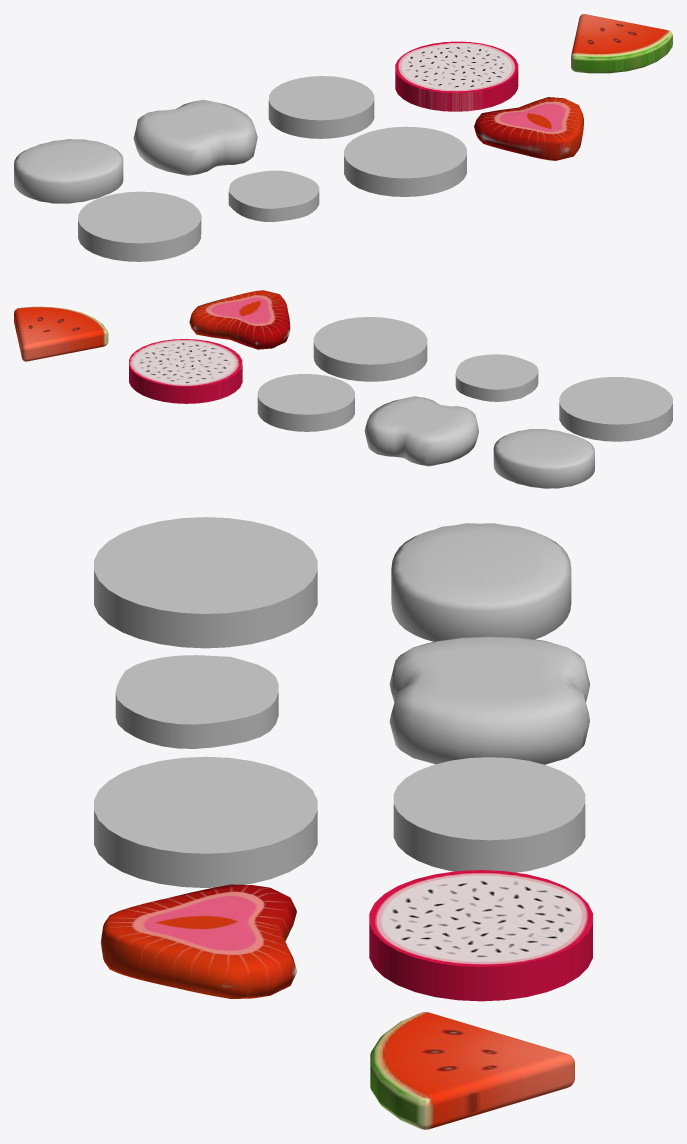
The model's file is fruits.fbx.
The picture shows the model from 3 angles, top to bottom: view 1: azimuth 30°, elevation 25°; view 2: azimuth 150°, elevation 25°; view 3: azimuth 270°, elevation 25°; orthographic projection. The views are drawn at different scales.
Parts seen in each view (by area): view 1: pCylinder6, pCylinder4, pCylinder1, pCube1, pCylinder2, pCylinder3, pCube2, pCylinder7, pCylinder5; view 2: pCylinder1, pCylinder4, pCylinder6, pCube1, pCylinder2, pCylinder3, pCube2, pCylinder7, pCylinder5; view 3: pCylinder4, pCylinder6, pCylinder1, pCube1, pCylinder3, pCylinder2, pCube2, pCylinder7, pCylinder5.
Boxes of the visible parts, left/top/right/bottom form: pCylinder6: left=395, top=41, right=518, bottom=111; pCylinder4: left=78, top=191, right=201, bottom=261; pCylinder1: left=344, top=126, right=466, bottom=196; pCube1: left=133, top=99, right=257, bottom=175; pCylinder2: left=14, top=139, right=123, bottom=203; pCylinder3: left=268, top=76, right=374, bottom=138; pCube2: left=474, top=97, right=583, bottom=160; pCylinder7: left=571, top=14, right=672, bottom=73; pCylinder5: left=228, top=170, right=319, bottom=222; pCylinder1: left=313, top=317, right=427, bottom=381; pCylinder4: left=559, top=376, right=672, bottom=441; pCylinder6: left=129, top=339, right=242, bottom=403; pCube1: left=364, top=396, right=478, bottom=466; pCylinder2: left=493, top=429, right=594, bottom=488; pCylinder3: left=257, top=374, right=354, bottom=431; pCube2: left=189, top=290, right=290, bottom=349; pCylinder7: left=14, top=306, right=108, bottom=361; pCylinder5: left=455, top=354, right=538, bottom=401; pCylinder4: left=94, top=517, right=317, bottom=648; pCylinder6: left=369, top=870, right=592, bottom=1001; pCylinder1: left=94, top=756, right=317, bottom=887; pCube1: left=389, top=635, right=589, bottom=764; pCylinder3: left=393, top=757, right=585, bottom=872; pCylinder2: left=391, top=523, right=571, bottom=641; pCube2: left=100, top=884, right=296, bottom=998; pCylinder7: left=370, top=1012, right=574, bottom=1129; pCylinder5: left=115, top=655, right=278, bottom=748.
Size of the model in its own units: 17.32 by 0.8138 by 6.28.
